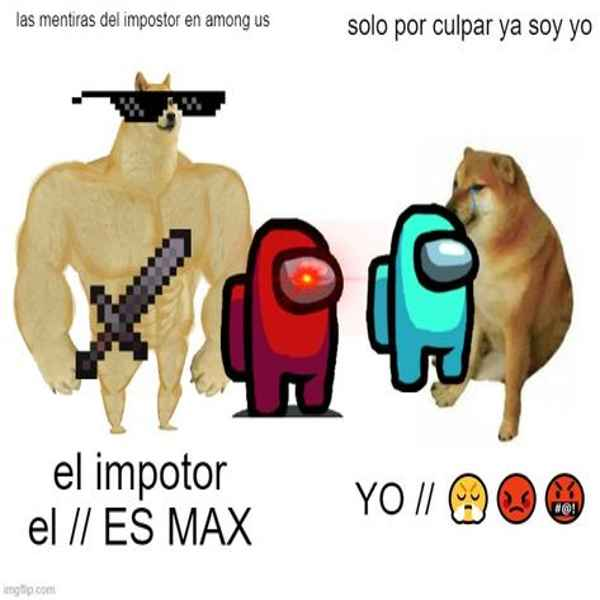doge: (434, 144, 533, 239), (124, 68, 184, 141)
